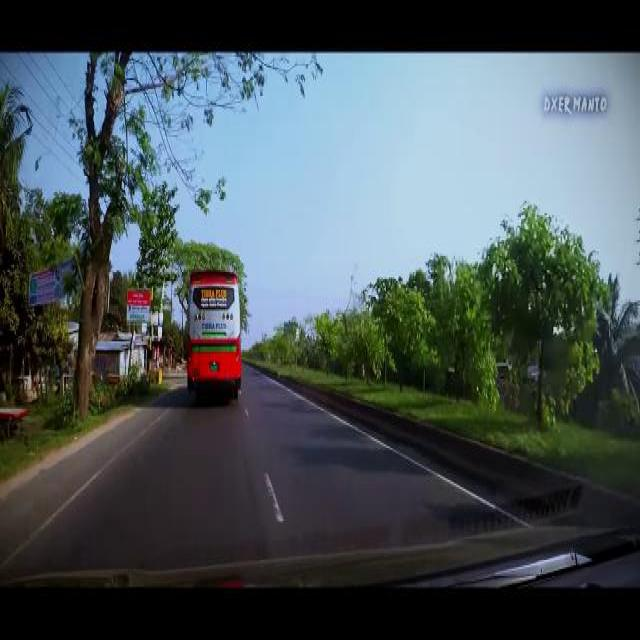vehicle: (185, 267, 244, 404)
